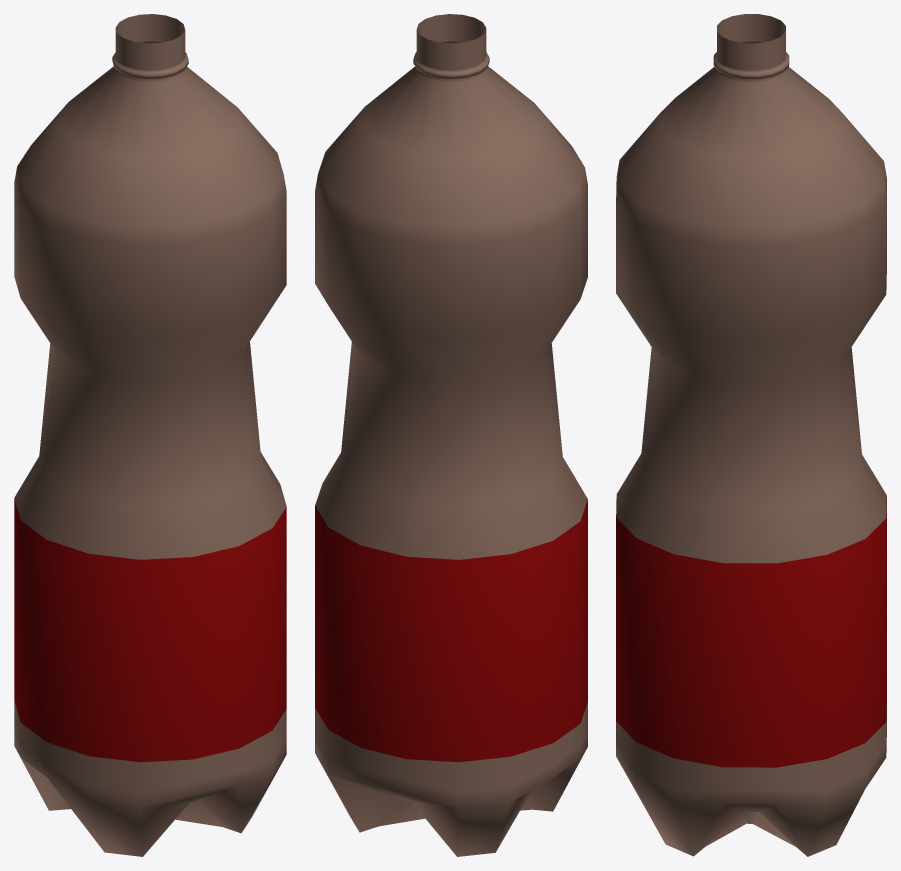
File: Mesh_WaterBottle_L.fbx
3 views of the same model, side by side, from view 1: azimuth 30°, elevation 25°; view 2: azimuth 150°, elevation 25°; view 3: azimuth 270°, elevation 25° (orthographic).
Parts seen in each view (by area): view 1: SodaBottle_L.001; view 2: SodaBottle_L.001; view 3: SodaBottle_L.001.
Part boxes in pixels (x1,y1,x2,y2): SodaBottle_L.001: (14, 14, 286, 856); SodaBottle_L.001: (315, 14, 587, 856); SodaBottle_L.001: (616, 14, 886, 856).
Size of the model in its own units: 13.09 by 42.25 by 13.09.
